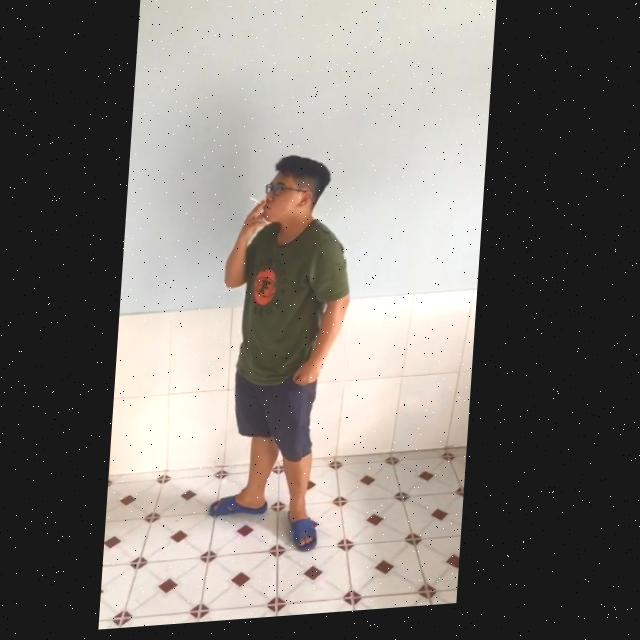cigarette: (252, 200, 265, 211)
